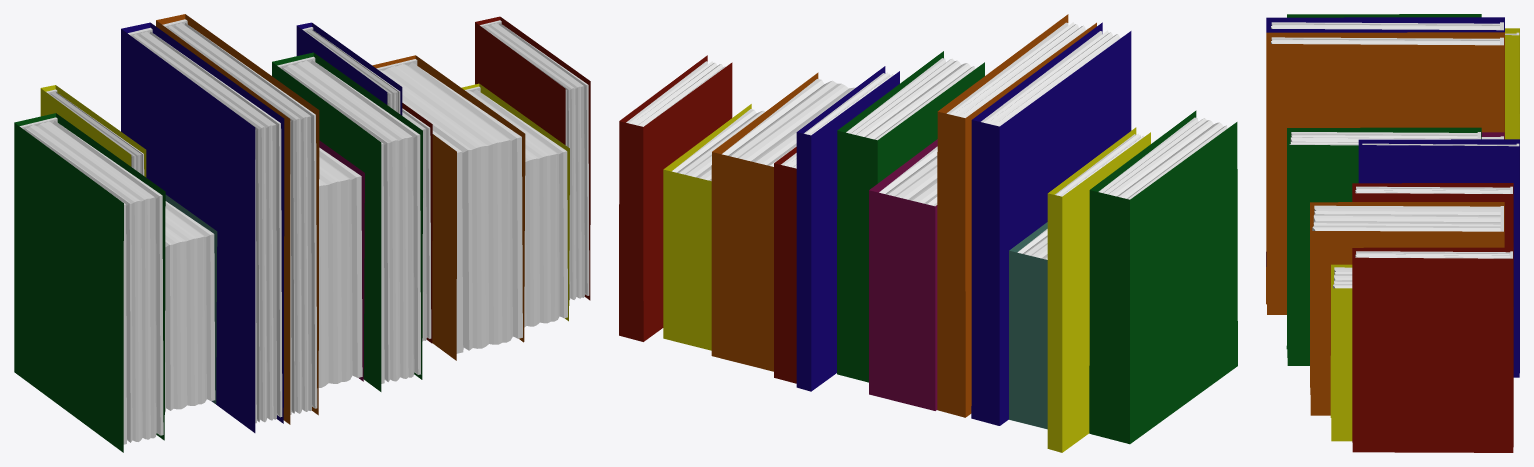
File: books2.fbx
3 renders of one model, left to right at view 1: azimuth 30°, elevation 25°; view 2: azimuth 150°, elevation 25°; view 3: azimuth 270°, elevation 25°, orthographic. The views are drawn at different scales.
Visible parts, largest first — view 1: book_cover.007, book_cover.005, book_cover.008, book_cover.004, book_cover.006, book_cover.011, book_cover.003, book_cover.009, book_cover.002, book_cover.001, book_cover.010, book_cover; view 2: book_cover.007, book_cover.005, book_cover.008, book_cover.003, book_cover.011, book_cover.004, book_cover.006, book_cover.010, book_cover.001, book_cover.002, book_cover.009, book_cover; view 3: book_cover.011, book_cover.006, book_cover.008, book_cover.004, book_cover.001, book_cover.002, book_cover.005, book_cover, book_cover.010, book_cover.007.
Boxes of the visible parts, x1,y1,x2,y2 form: book_cover.007: (14, 113, 165, 452); book_cover.005: (121, 22, 284, 432); book_cover.008: (372, 55, 525, 360); book_cover.004: (272, 52, 422, 391); book_cover.006: (156, 14, 319, 424); book_cover.011: (475, 16, 590, 300); book_cover.003: (318, 140, 364, 387); book_cover.009: (165, 195, 217, 412); book_cover.002: (461, 83, 569, 327); book_cover.001: (296, 22, 402, 115); book_cover.010: (40, 85, 146, 177); book_cover: (402, 103, 432, 343); book_cover.007: (1089, 110, 1237, 444); book_cover.005: (971, 22, 1131, 425); book_cover.008: (711, 72, 855, 371); book_cover.003: (869, 139, 937, 410); book_cover.011: (619, 55, 732, 341); book_cover.004: (837, 51, 984, 382); book_cover.006: (937, 14, 1096, 417); book_cover.010: (1047, 127, 1150, 452); book_cover.001: (796, 66, 899, 391); book_cover.002: (663, 104, 765, 350); book_cover.009: (1009, 222, 1047, 429); book_cover: (774, 146, 796, 383); book_cover.011: (1352, 247, 1513, 452); book_cover.006: (1266, 32, 1504, 314); book_cover.008: (1310, 202, 1504, 415); book_cover.004: (1286, 127, 1481, 365); book_cover.001: (1358, 139, 1519, 377); book_cover.002: (1330, 264, 1352, 441); book_cover.005: (1266, 17, 1504, 266); book_cover: (1352, 183, 1513, 247); book_cover.010: (1505, 28, 1519, 139); book_cover.007: (1287, 14, 1481, 17).
Size of the model in its own units: 82.86 by 48.82 by 40.67.
